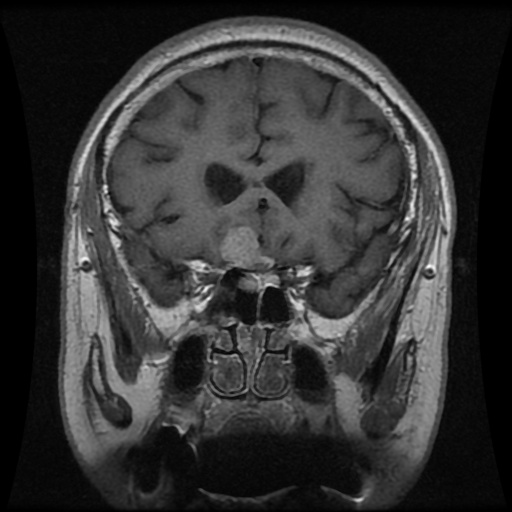pituitary: (219, 227, 275, 290)
